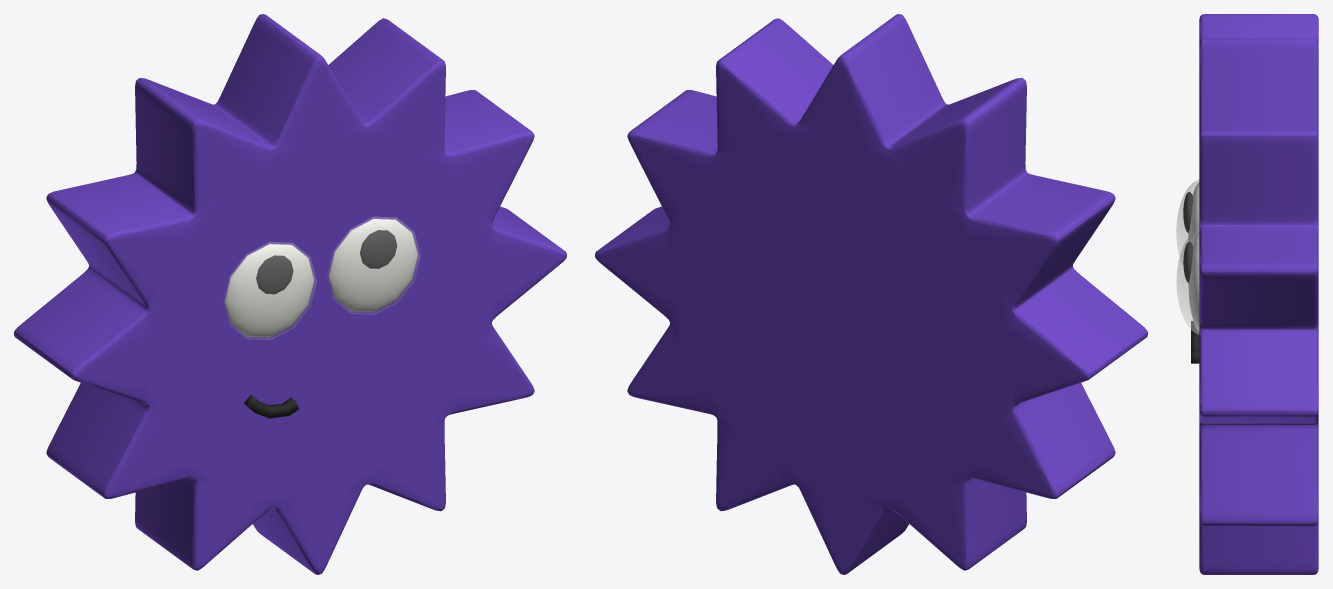
File: 1-Guy.gltf
3 views of the same model, side by side, from view 1: azimuth 30°, elevation 25°; view 2: azimuth 150°, elevation 25°; view 3: azimuth 270°, elevation 25° (orthographic).
Parts seen in each view (by area): view 1: 1, Sphere.004, Sphere.003, Sphere.001, Sphere.002, Sphere.005, Sphere.006, Plane.008; view 2: 1; view 3: 1, Sphere.003, Sphere.004, Sphere.002, Sphere.001, Plane.008, Sphere.005, Sphere.006.
Part boxes in pixels (x1,y1,x2,y2): 1: (14, 14, 566, 574); Sphere.004: (223, 242, 316, 339); Sphere.003: (327, 217, 420, 314); Sphere.001: (225, 244, 314, 337); Sphere.002: (329, 219, 417, 311); Sphere.005: (256, 255, 293, 294); Sphere.006: (360, 230, 397, 268); Plane.008: (244, 394, 299, 418); 1: (595, 14, 1147, 574); 1: (1199, 14, 1318, 574); Sphere.003: (1176, 229, 1198, 334); Sphere.004: (1176, 179, 1198, 266); Sphere.002: (1188, 232, 1199, 331); Sphere.001: (1188, 182, 1199, 244); Plane.008: (1191, 321, 1199, 363); Sphere.005: (1183, 192, 1192, 233); Sphere.006: (1183, 241, 1192, 282).
Size of the model in its own units: 0.9835 by 0.9835 by 0.2489.
